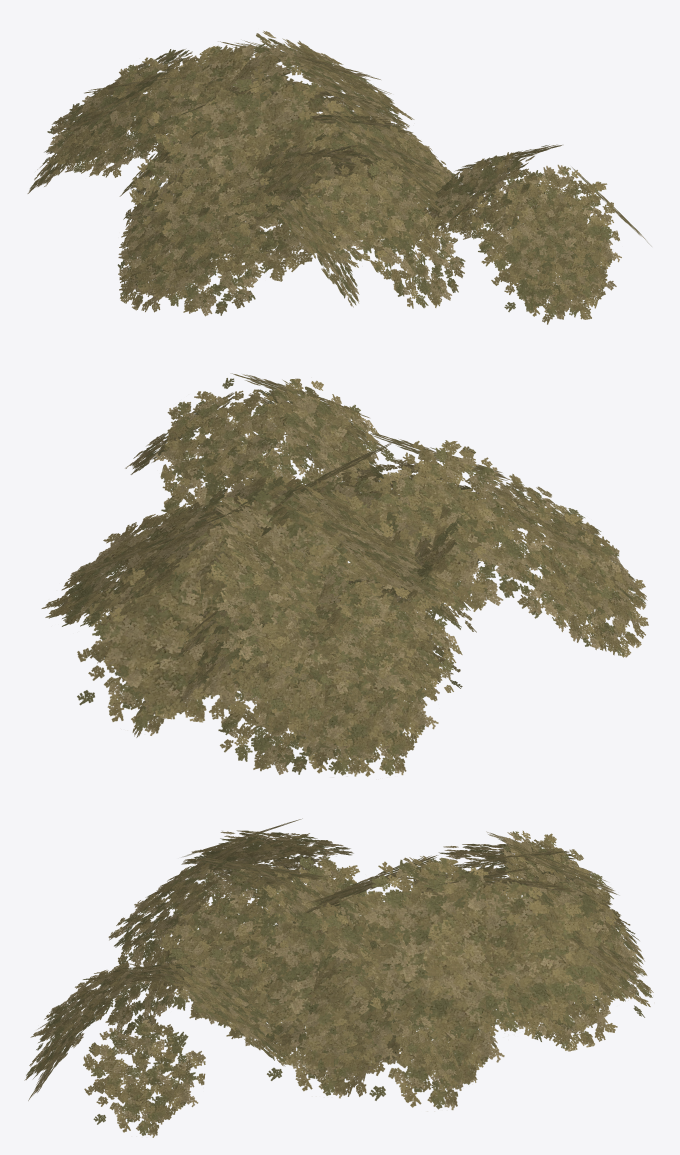
3 renders of one model, top to bottom at view 1: azimuth 30°, elevation 25°; view 2: azimuth 150°, elevation 25°; view 3: azimuth 270°, elevation 25°, orthographic. The views are drawn at different scales.
Visible parts, largest first — view 1: mat_r_lod0_0; view 2: mat_r_lod0_0; view 3: mat_r_lod0_0.
Part boxes in pixels (x1,y1,x2,y2): mat_r_lod0_0: (27, 31, 650, 324); mat_r_lod0_0: (41, 373, 648, 776); mat_r_lod0_0: (24, 818, 653, 1137).
Size of what is drawn, in the model's own units: 3.42 by 1.2 by 3.71.
1 material, 1 textured.
